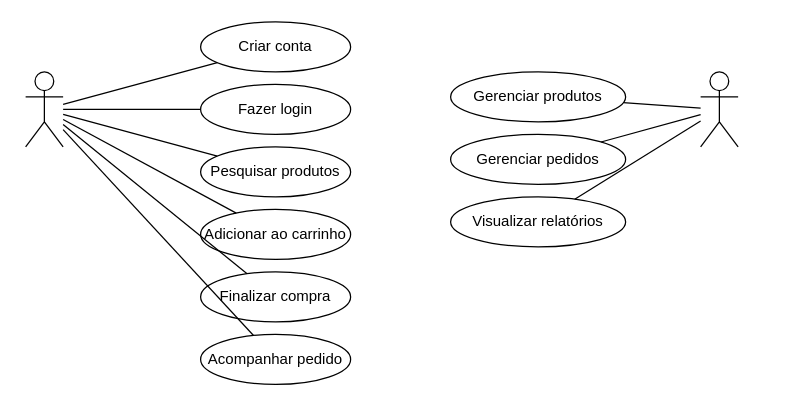
Image size: 788x406. Some labels were removed from this diagram. Here are the shapes that lost their labels. From the top down, the centre of each, then its label:
the point at 43,109: Cliente
the point at 718,109: Administrador
